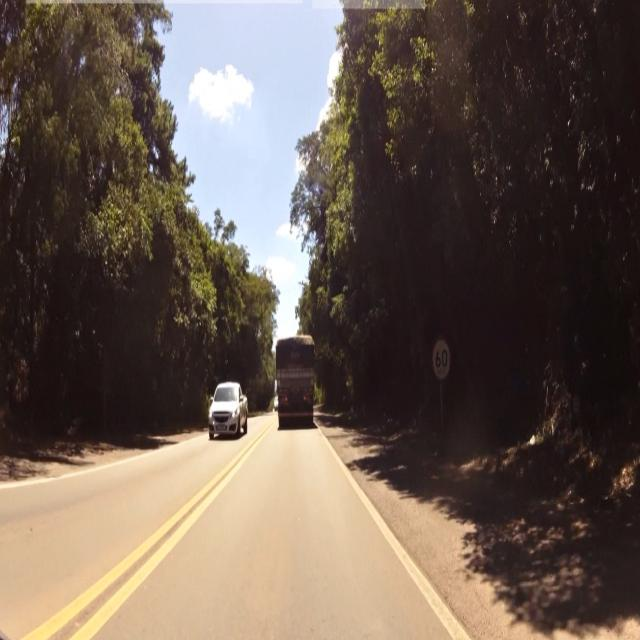R-19: (432, 338, 451, 383)
